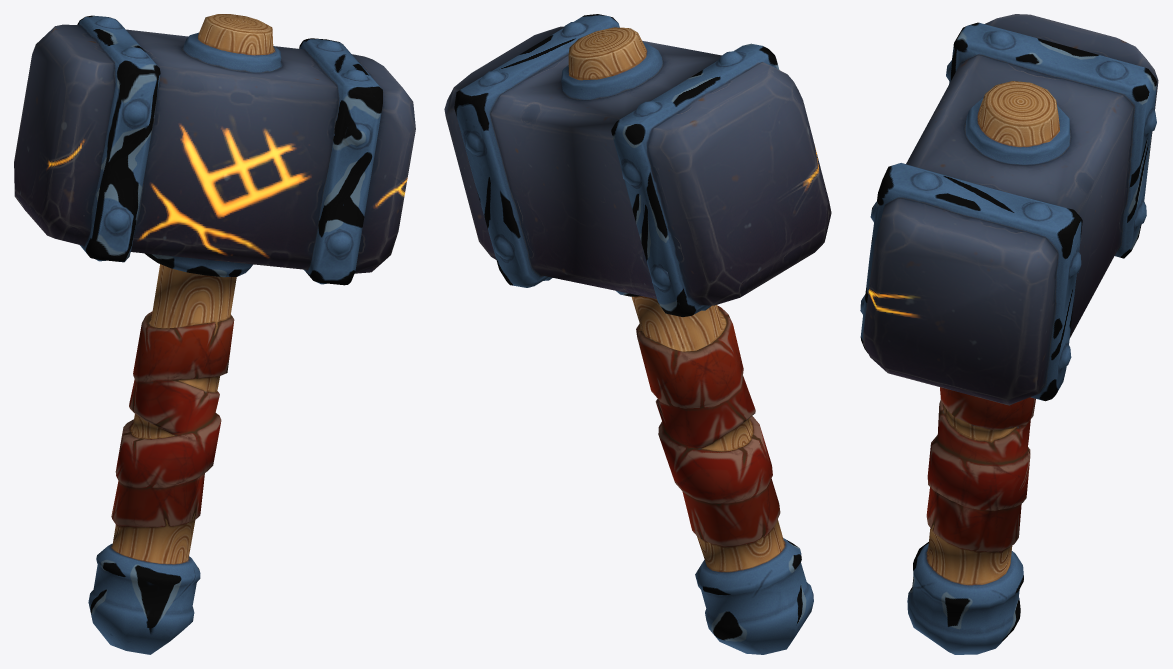
File: Hammer.glb
The picture shows the model from 3 angles, left to right: view 1: azimuth 30°, elevation 25°; view 2: azimuth 150°, elevation 25°; view 3: azimuth 270°, elevation 25°; orthographic projection. The views are drawn at different scales.
Visible parts, largest first — view 1: Hammer_LP; view 2: Hammer_LP; view 3: Hammer_LP.
Boxes of the visible parts, left/top/right/bottom form: Hammer_LP: left=14, top=14, right=415, bottom=654; Hammer_LP: left=444, top=14, right=831, bottom=654; Hammer_LP: left=860, top=14, right=1158, bottom=654.
Bounding box in the file's own units: 0.0335 × 0.053 × 0.0229.
Materials: 1 (1 with a texture image).
